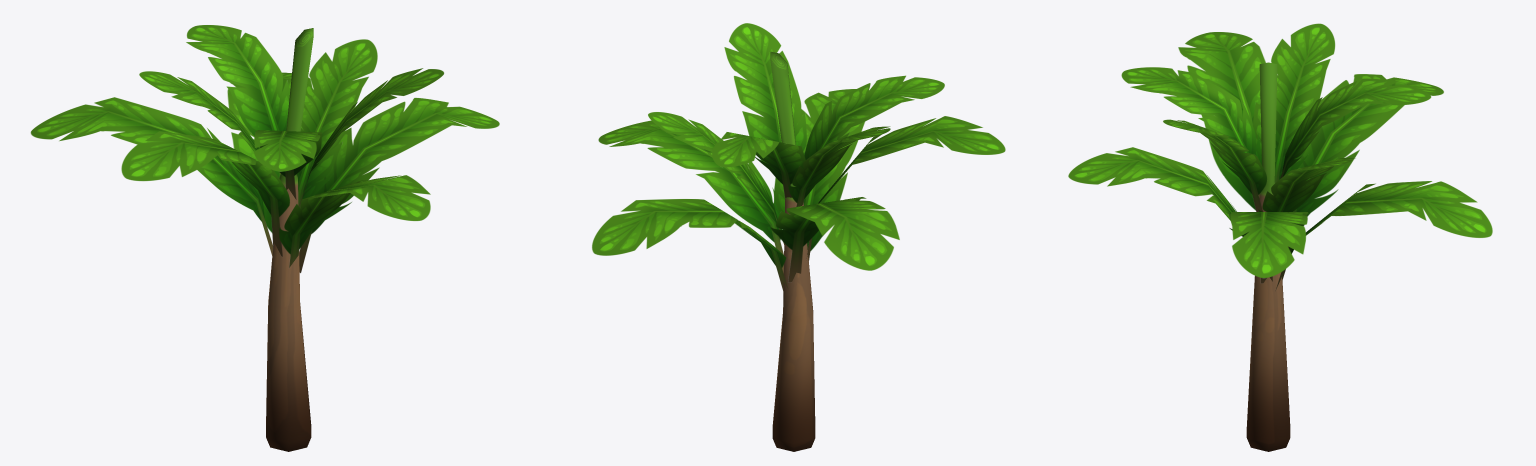
Rendered from Tree9.glb.
3 renders of one model, left to right at view 1: azimuth 30°, elevation 25°; view 2: azimuth 150°, elevation 25°; view 3: azimuth 270°, elevation 25°, orthographic. The views are drawn at different scales.
Parts seen in each view (by area): view 1: Tree_18a; view 2: Tree_18a; view 3: Tree_18a.
Part boxes in pixels (box(x1,y1,x2,y2)): Tree_18a: box(30, 25, 499, 451); Tree_18a: box(592, 23, 1005, 451); Tree_18a: box(1068, 23, 1492, 451).
Bounding box in the file's own units: 76.84 × 71.22 × 76.77.
Materials: 1 (1 with a texture image).
